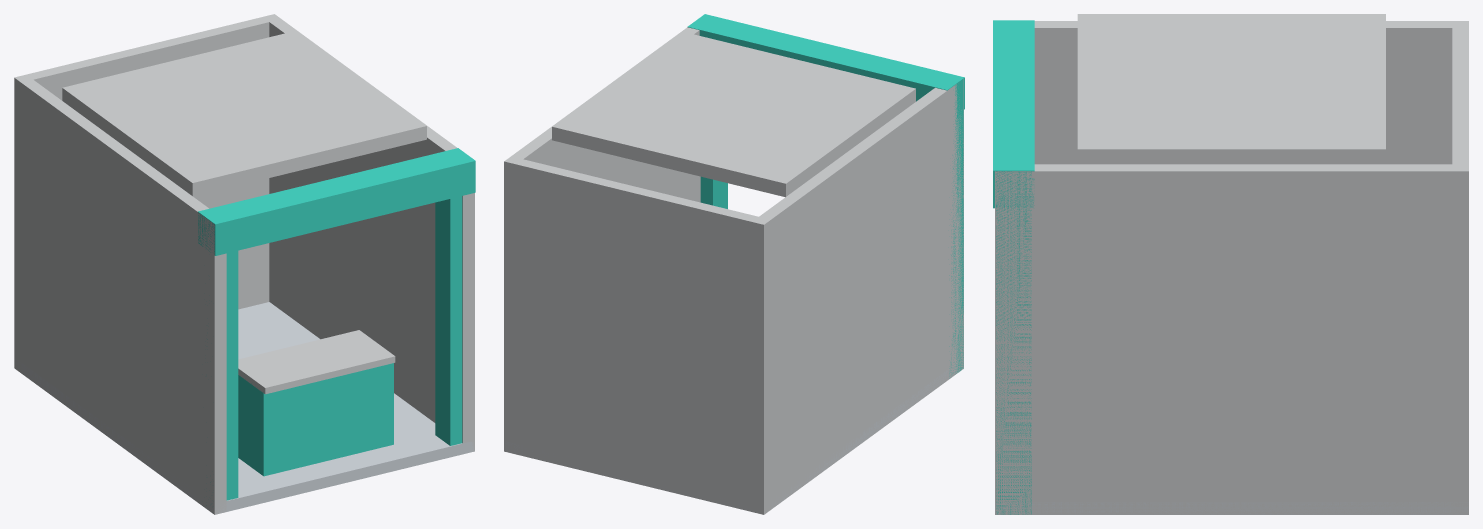
The picture shows the model from 3 angles, left to right: view 1: azimuth 30°, elevation 25°; view 2: azimuth 150°, elevation 25°; view 3: azimuth 270°, elevation 25°; orthographic projection. The views are drawn at different scales.
Visible parts, largest first — view 1: Exhibition Booth Concept; view 2: Exhibition Booth Concept; view 3: Exhibition Booth Concept.
Part boxes in pixels (x1,y1,x2,y2): Exhibition Booth Concept: (14, 14, 475, 514); Exhibition Booth Concept: (504, 14, 964, 514); Exhibition Booth Concept: (993, 14, 1468, 514).
Bounding box in the file's own units: 3 × 3.34 × 4.02.
